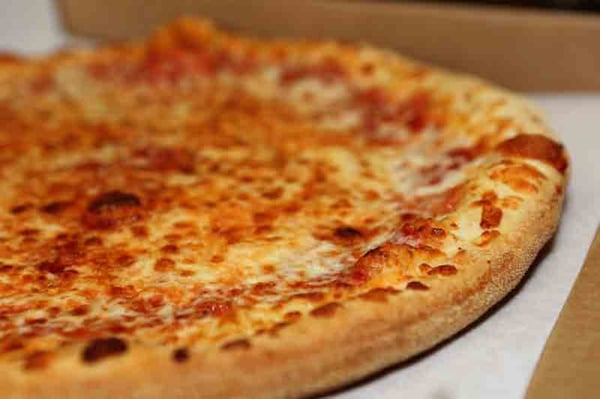sandwich: (0, 15, 565, 390)
